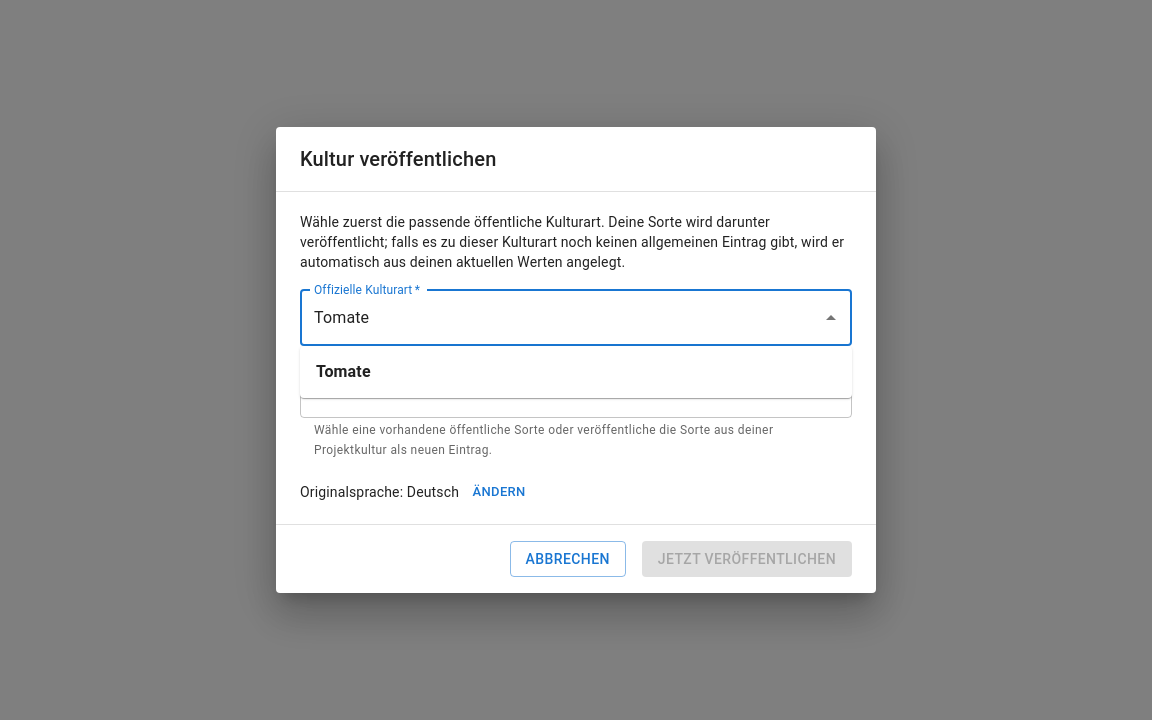
Scenario: CropsPublishingWizardDialog › names a blocking reason that has no detailed alert of its own
The width and height of the screenshot is (1152, 720).
Click the option "Tomate": (343, 372) x1=316 y1=362 x2=371 y2=381
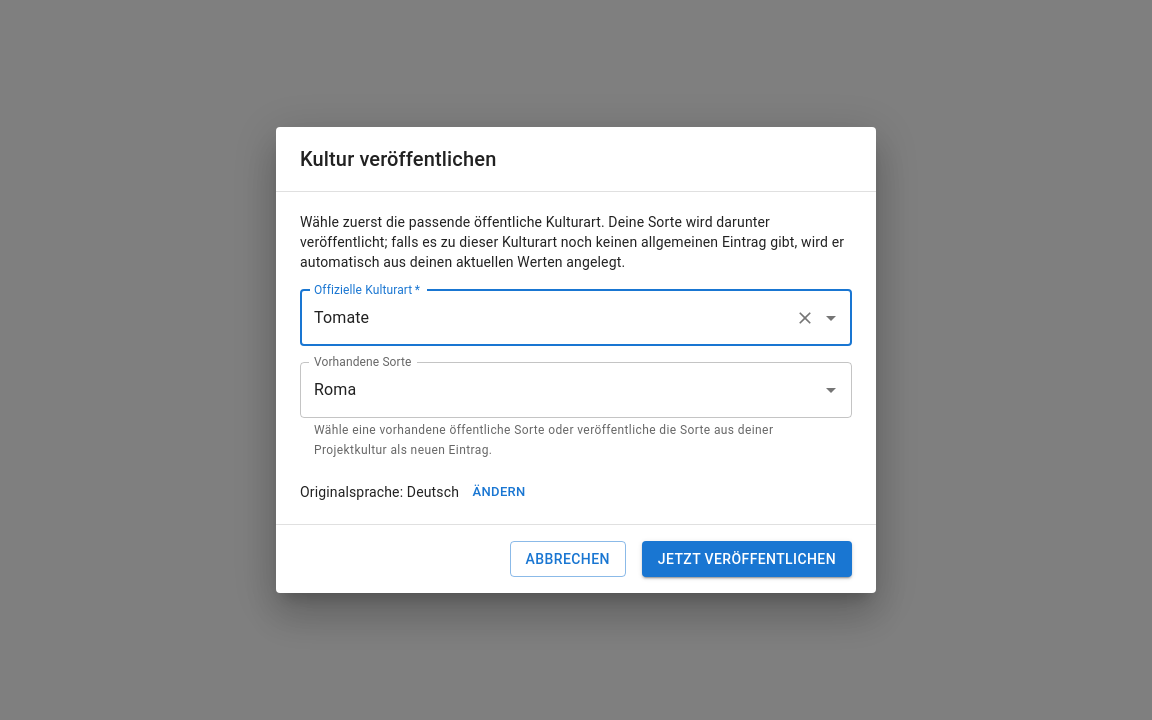
Click the button "Jetzt veröffentlichen": (747, 559) x1=642 y1=540 x2=852 y2=577
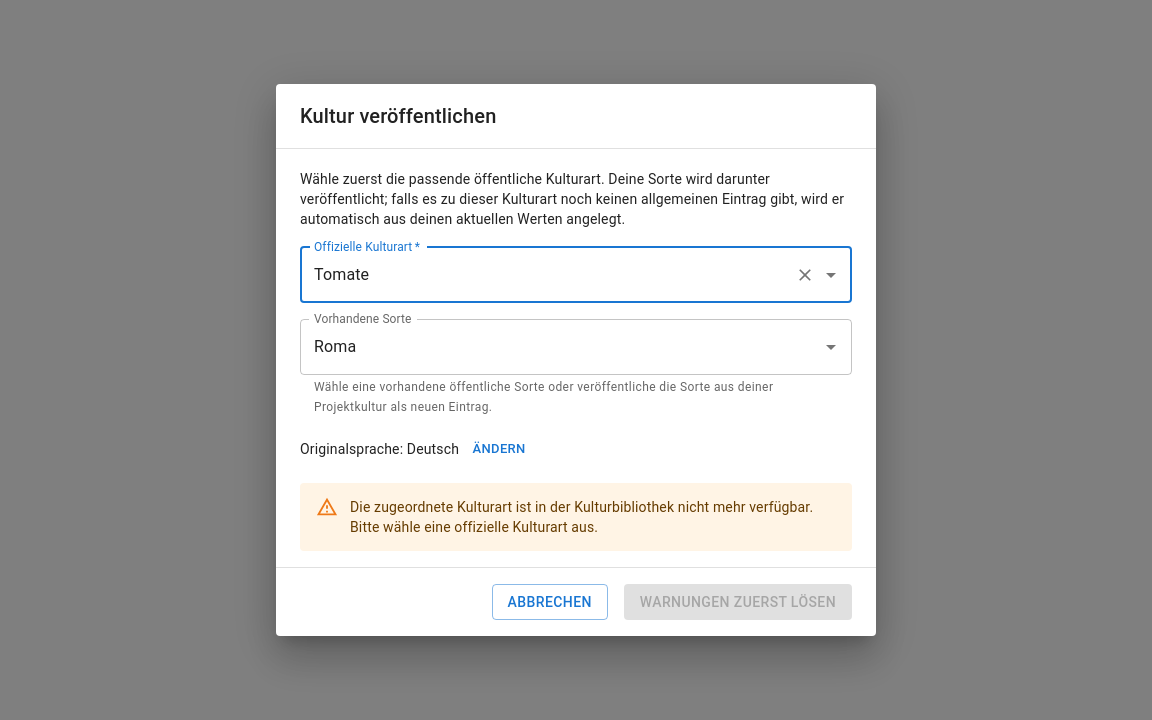
Result: the text "Die zugeordnete Kulturart ist in der Kulturbibliothek nicht mehr verfügbar" is shown at x1=350 y1=498 x2=813 y2=534
